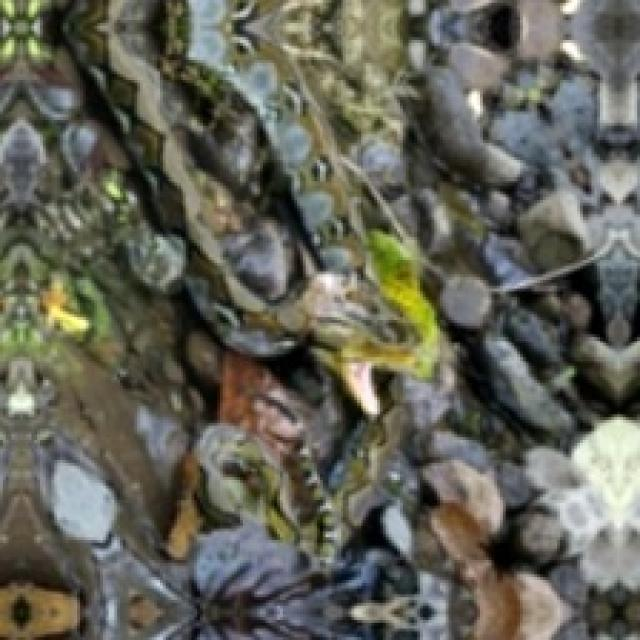reticulated python: (64, 0, 419, 416)
